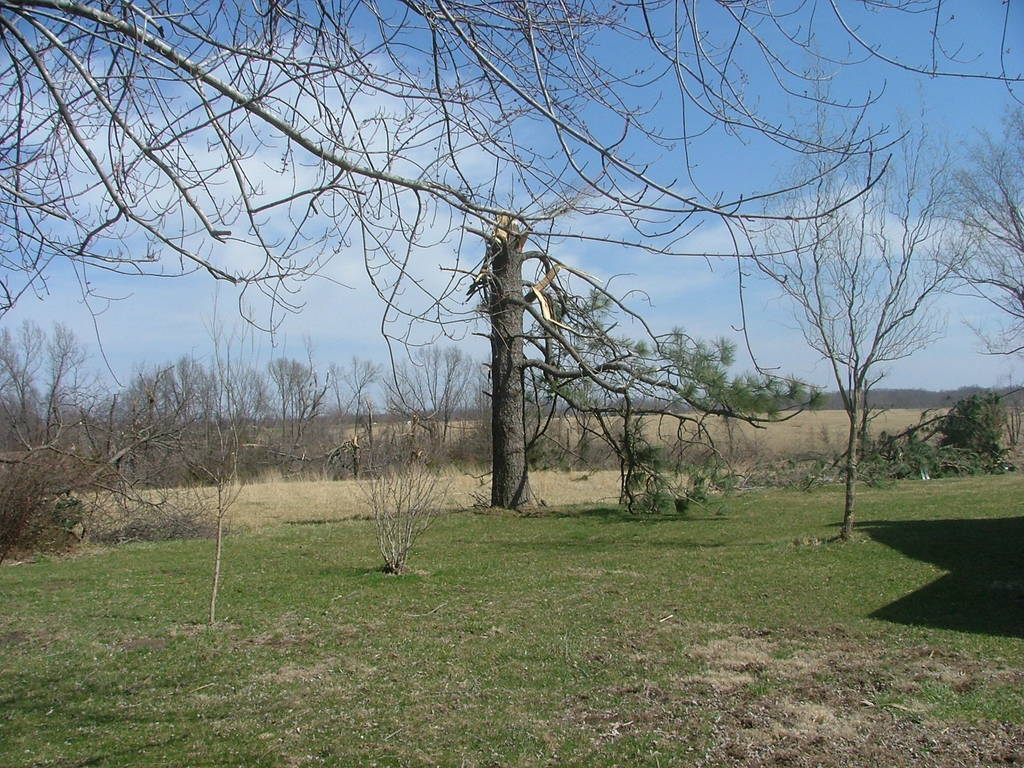Tree: (0, 0, 1023, 352), (702, 149, 983, 526), (440, 229, 825, 504), (1, 310, 186, 554), (906, 145, 1023, 397), (385, 337, 542, 488), (62, 357, 229, 487), (829, 397, 1023, 497), (298, 352, 398, 472), (229, 351, 316, 485), (452, 398, 582, 484), (568, 387, 656, 481)
